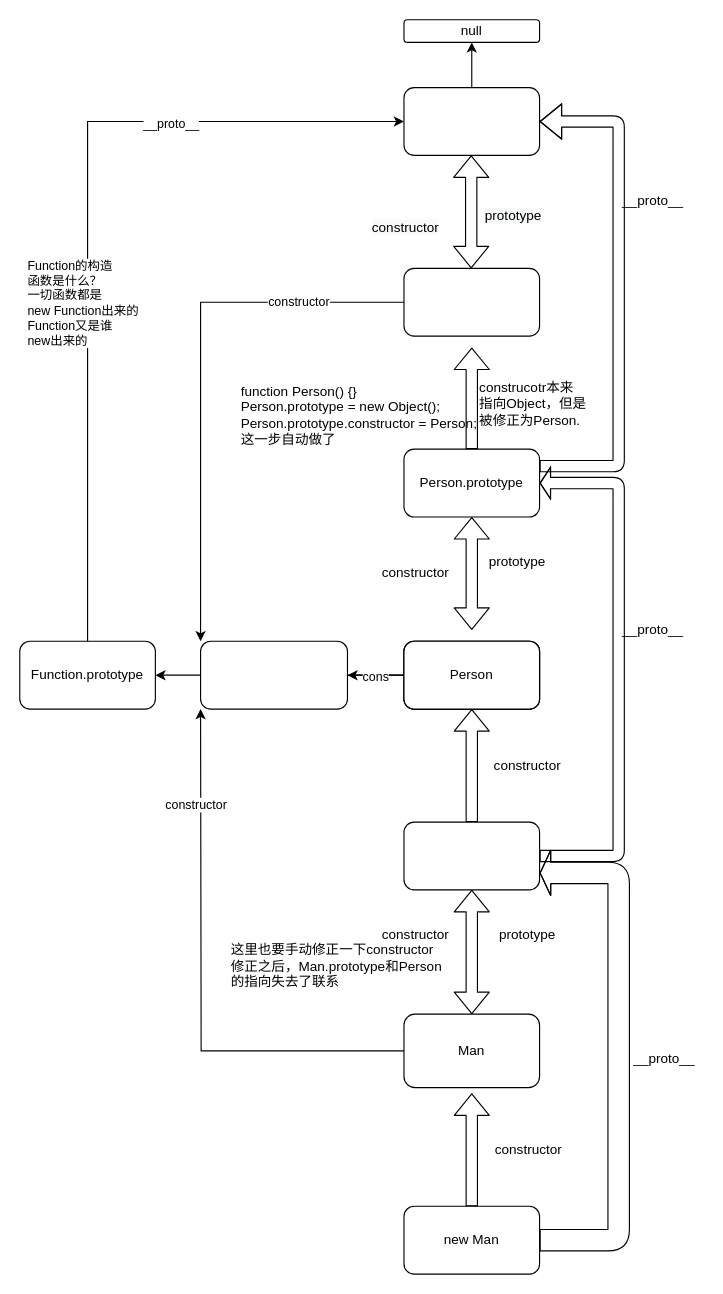
The diagram is 723 pixels wide and 1294 high, and some of its shapes have lost their labels. Here are the shapes that lost their labels. From the top down, the centre of each, then its label:
At [471,120]: "Object.prototype".
At [471,301]: "Object".
At [273,674]: "Function".
At [471,855]: "var mP = new Person() // ------------------------- Man.prototype = new Persoh()".
